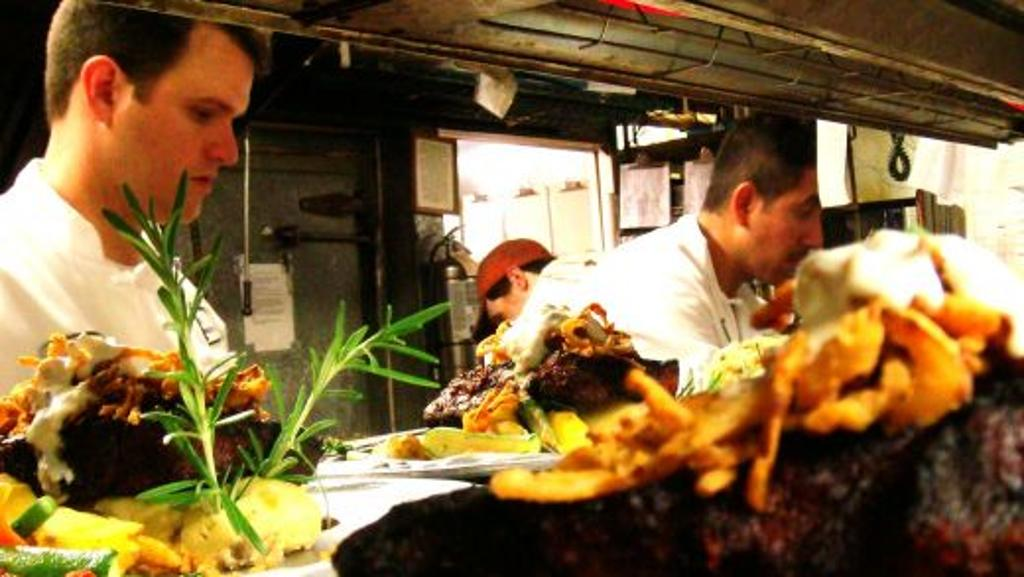face: (116, 20, 250, 220), (754, 160, 834, 286)
